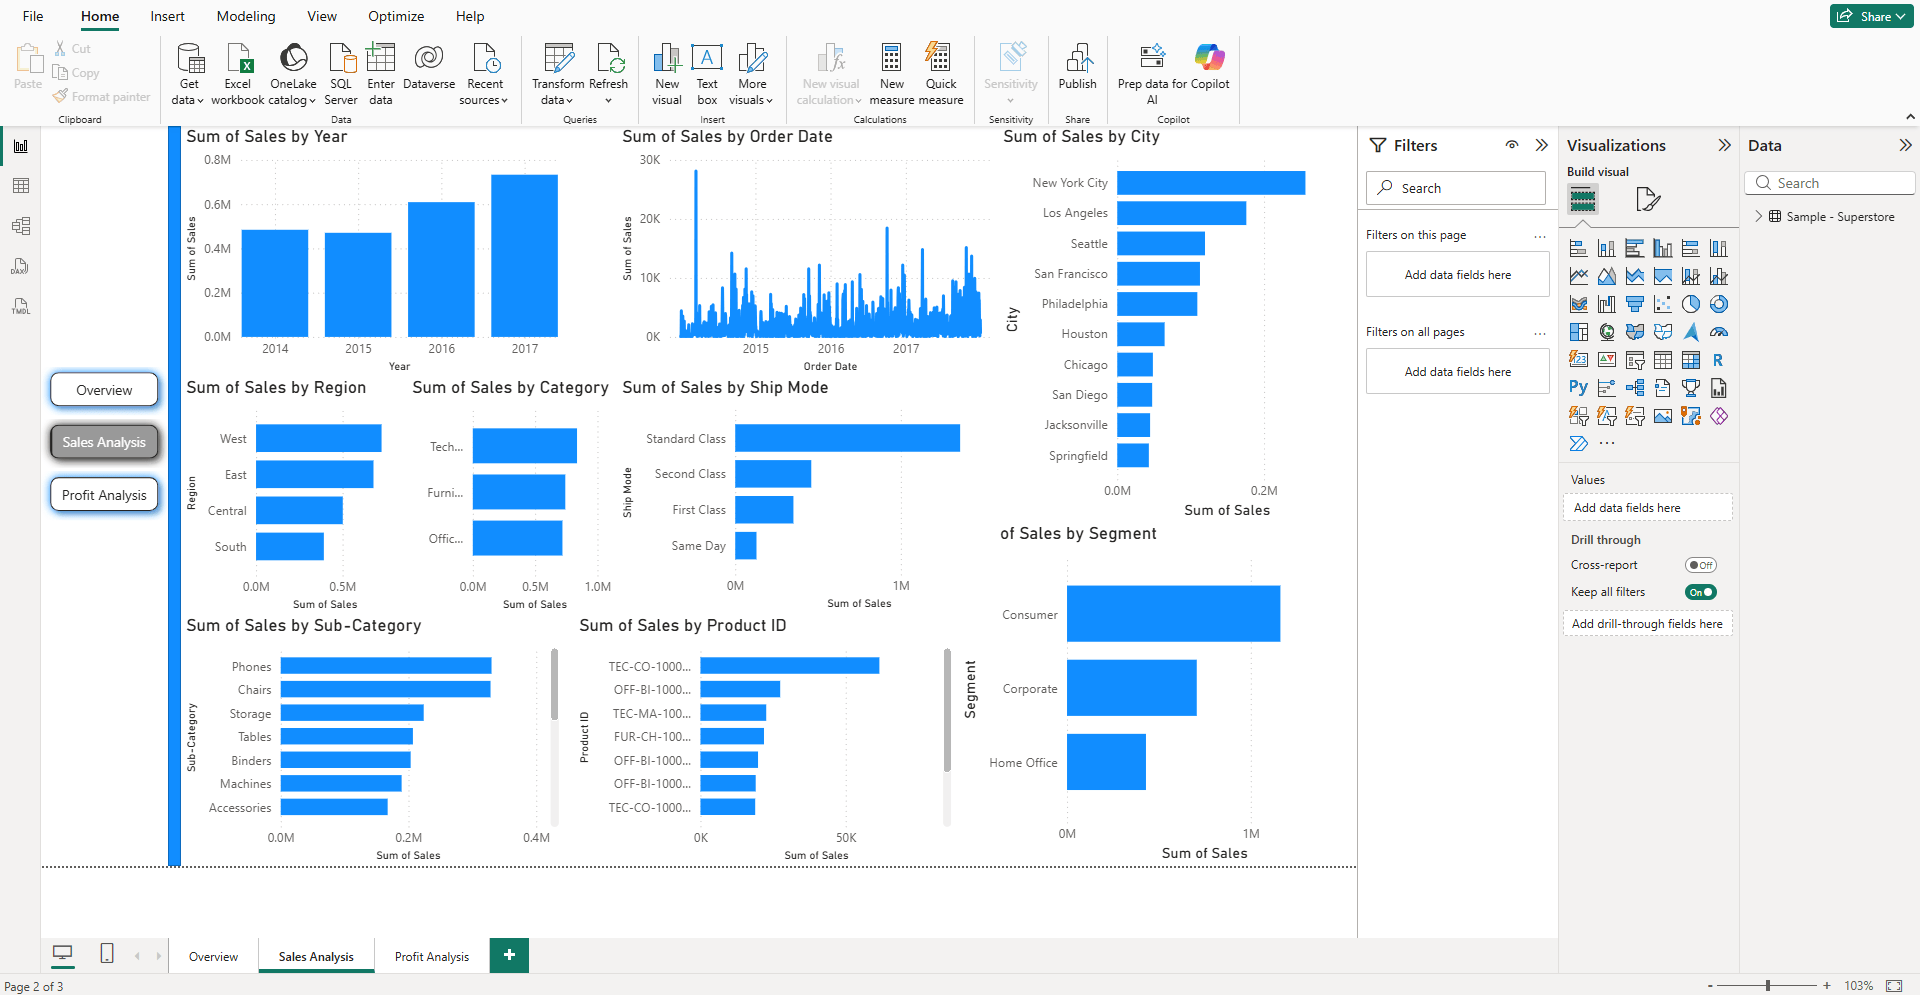

The page's visual inventory and layout, read from the dashboard file:
{"tool":"powerbi","page":{"name":"Sales Analysis","canvas":[1280,720],"ordinal":1},"visuals":[{"type":"pageNavigator","box":[0,230.5,123.5,155.6],"z":0},{"type":"shape","box":[123.5,0,12.6,719.8],"z":1000},{"type":"columnChart","fields":{"Category":["Sample - Superstore.Order Date.Variation.Date Hierarchy.Year"],"Y":["Sum(Sample - Superstore.Sales)"]},"box":[136.2,0,371.6,244.1],"z":2000},{"type":"lineChart","fields":{"Category":["Sample - Superstore.Order Date"],"Y":["Sum(Sample - Superstore.Sales)"]},"box":[560.2,0,371.6,244.1],"z":3000},{"type":"barChart","fields":{"Category":["Sample - Superstore.Region"],"Y":["Sum(Sample - Superstore.Sales)"]},"box":[136.2,244.1,226.6,231.5],"z":4000},{"type":"barChart","fields":{"Category":["Sample - Superstore.Category"],"Y":["Sum(Sample - Superstore.Sales)"]},"box":[356,244.1,204.3,231.5],"z":5000},{"type":"barChart","fields":{"Category":["Sample - Superstore.Sub-Category"],"Y":["Sum(Sample - Superstore.Sales)"]},"box":[136.2,475.6,372.5,244.1],"z":6000},{"type":"barChart","fields":{"Category":["Sample - Superstore.City"],"Y":["Sum(Sample - Superstore.Sales)"]},"box":[930.8,0,349.2,386.1],"z":7000},{"type":"barChart","fields":{"Category":["Sample - Superstore.Product ID"],"Y":["Sum(Sample - Superstore.Sales)"]},"box":[518,476,372,244],"z":8000},{"type":"barChart","fields":{"Category":["Sample - Superstore.Segment"],"Y":["Sum(Sample - Superstore.Sales)"]},"box":[890,386.1,390,333.6],"z":9000},{"type":"barChart","fields":{"Category":["Sample - Superstore.Ship Mode"],"Y":["Sum(Sample - Superstore.Sales)"]},"box":[560.2,244.1,370.6,230.5],"z":10000}]}

Visuals, with their boxes on the page's 1280x720 design canvas (x1, y1, x2, y2). These are canvas units, not pixel positions in the 1920x995 screenshot, which may show the page scaled, cropped or inside an application window:
pageNavigator: (0,230,124,386)
shape: (124,0,136,720)
columnChart - Sample - Superstore.Order Date.Variation.Date Hierarchy.Year x Sum(Sample - Superstore.Sales): (136,0,508,244)
lineChart - Sample - Superstore.Order Date x Sum(Sample - Superstore.Sales): (560,0,932,244)
barChart - Sample - Superstore.Region x Sum(Sample - Superstore.Sales): (136,244,363,476)
barChart - Sample - Superstore.Category x Sum(Sample - Superstore.Sales): (356,244,560,476)
barChart - Sample - Superstore.Sub-Category x Sum(Sample - Superstore.Sales): (136,476,509,720)
barChart - Sample - Superstore.City x Sum(Sample - Superstore.Sales): (931,0,1280,386)
barChart - Sample - Superstore.Product ID x Sum(Sample - Superstore.Sales): (518,476,890,720)
barChart - Sample - Superstore.Segment x Sum(Sample - Superstore.Sales): (890,386,1280,720)
barChart - Sample - Superstore.Ship Mode x Sum(Sample - Superstore.Sales): (560,244,931,475)
